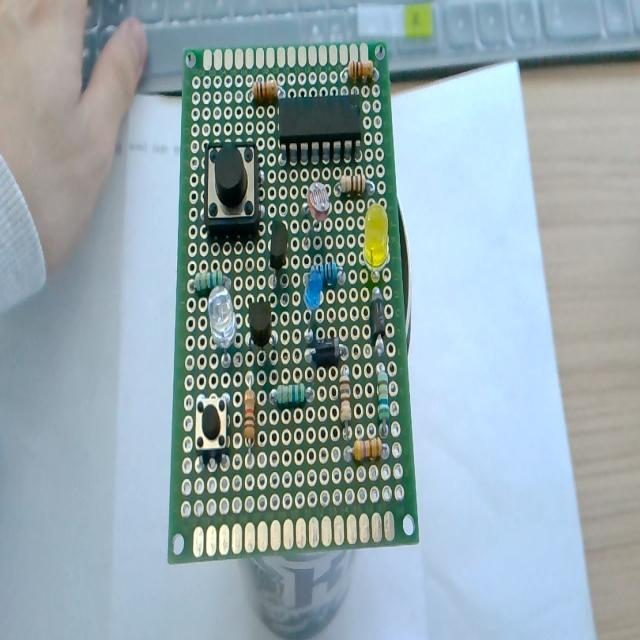IC: (278, 94, 359, 164)
cds: (297, 178, 332, 242)
diode: (309, 335, 342, 369), (370, 294, 386, 342)
led: (208, 285, 237, 349), (364, 202, 388, 270), (304, 265, 324, 312)
resistor: (304, 259, 348, 287), (243, 374, 256, 456), (339, 372, 353, 437), (352, 437, 382, 461), (274, 384, 306, 406), (376, 367, 389, 420), (196, 269, 224, 292), (252, 78, 276, 102), (341, 173, 367, 195), (349, 59, 373, 81)
switch: (205, 141, 261, 240), (195, 393, 228, 455)
transistor: (269, 220, 288, 288), (248, 300, 270, 346)
